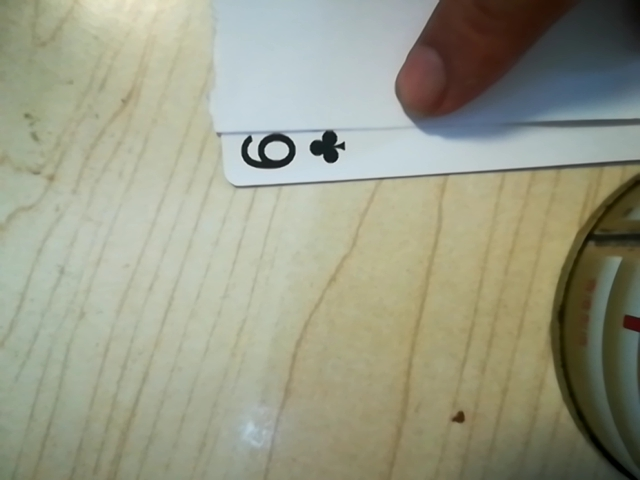mh 6: (227, 118, 365, 184)
